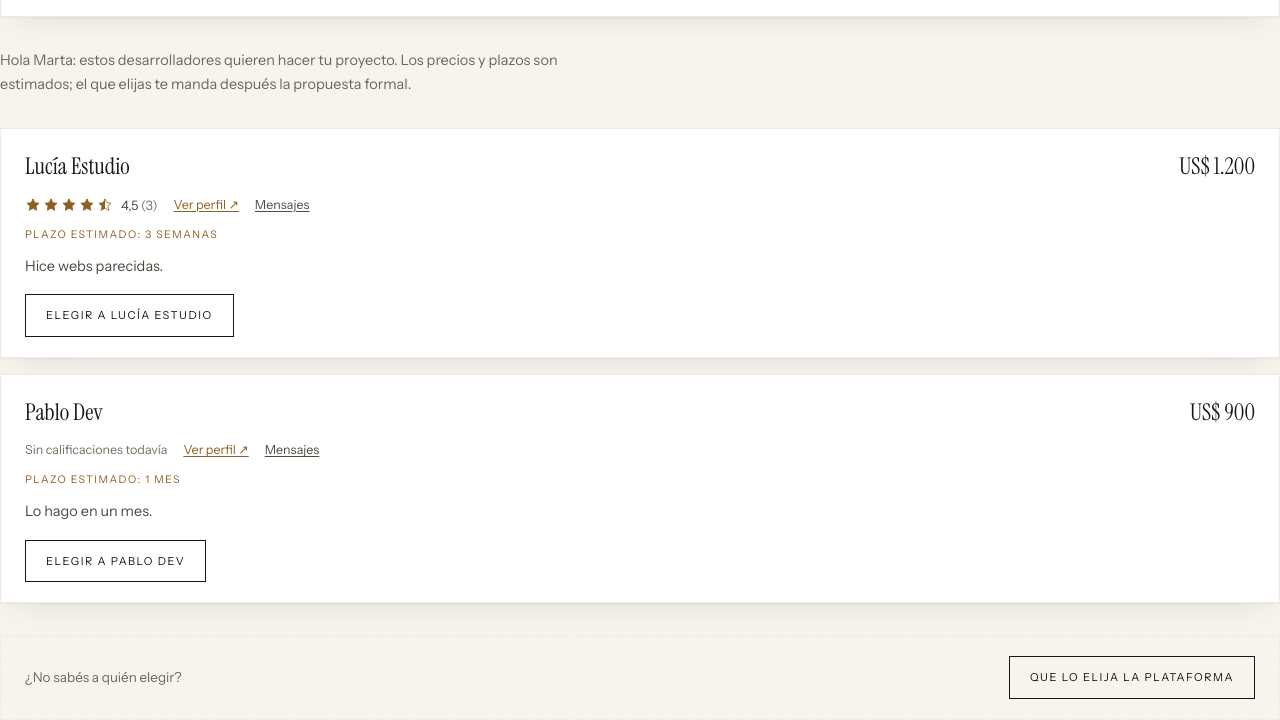
Test: ElegirPostulacion › con dos o más postulantes, «Que lo elija la plataforma» sortea por n8n
(page scrolled)
Expected: the text "Sin calificaciones todavía" is shown, [25,441,167,460]
What coordinates should you click on to do the following:
click the button "Que lo elija la plataforma"
I would click on:
 (1132, 677)
Its box is [1009,656,1255,698].
(page scrolled)
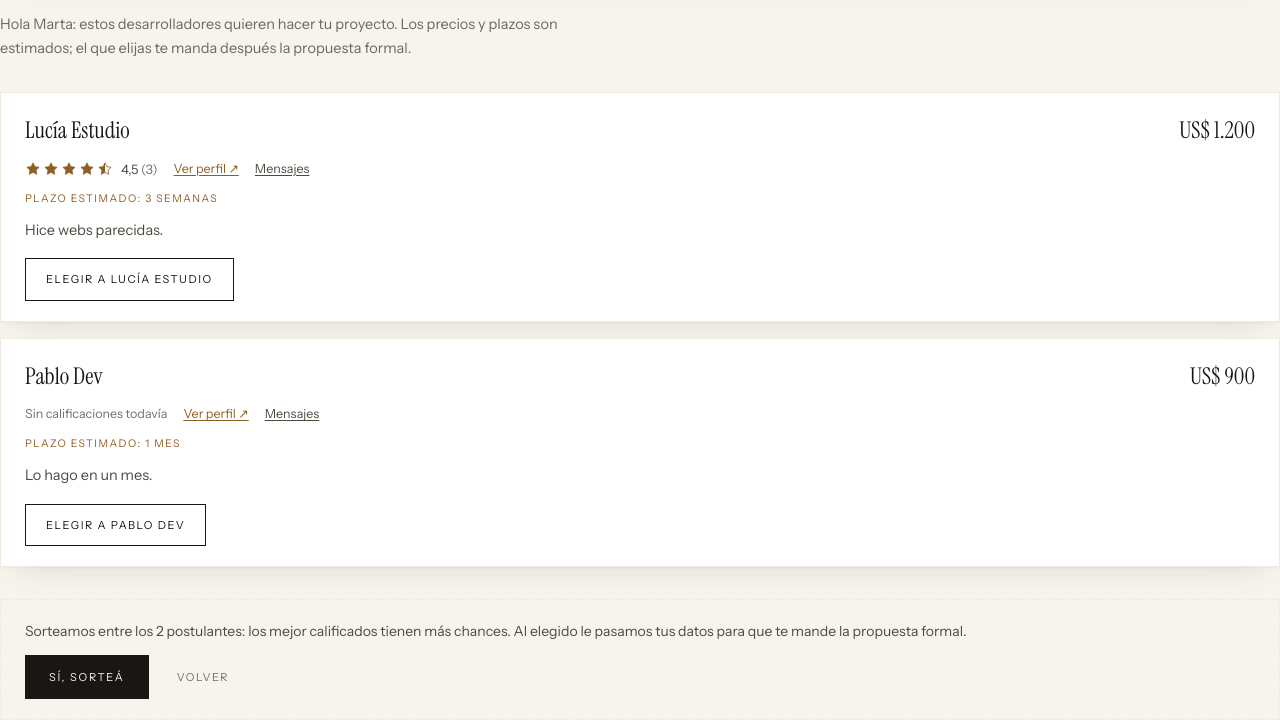
What coordinates should you click on to do the following:
click the button "Sí, sorteá"
I would click on:
 (87, 677)
Its box is [25,655,149,699].
(page scrolled)
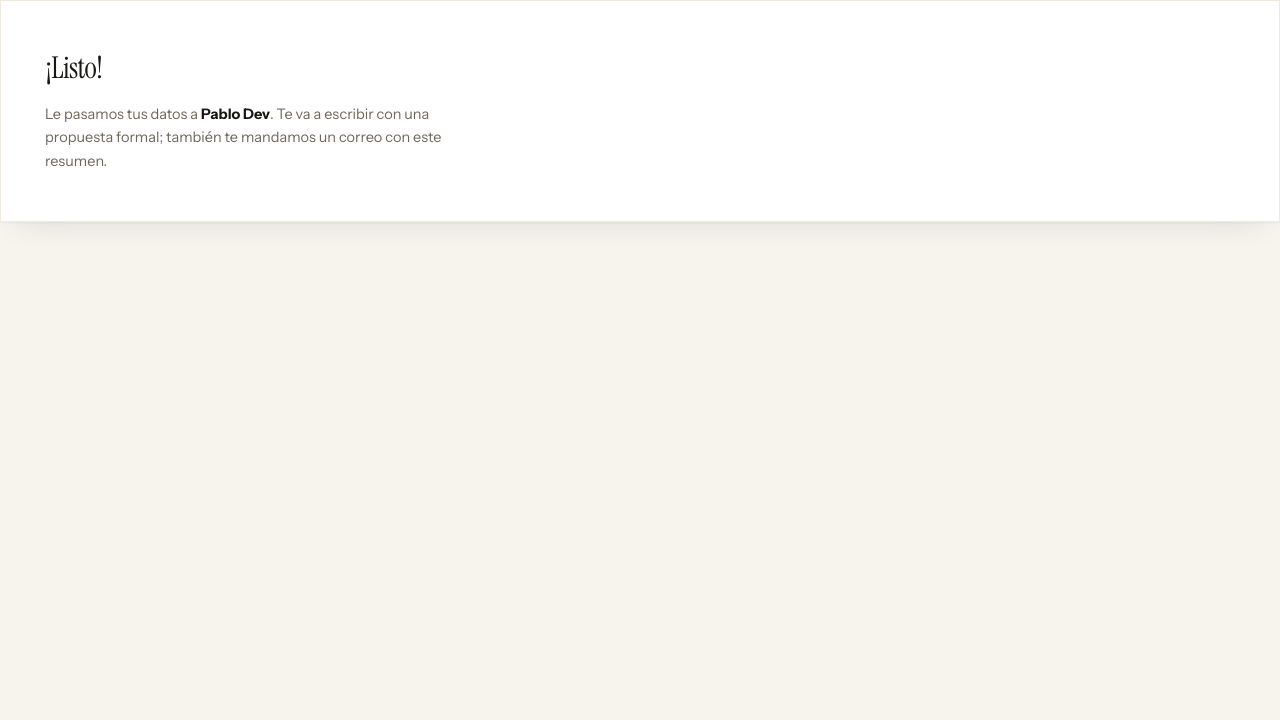
Expected: the text "Pablo Dev" is shown, [201,104,270,122]
Expected: the heading "¡Listo!" is shown, [45,48,102,87]
